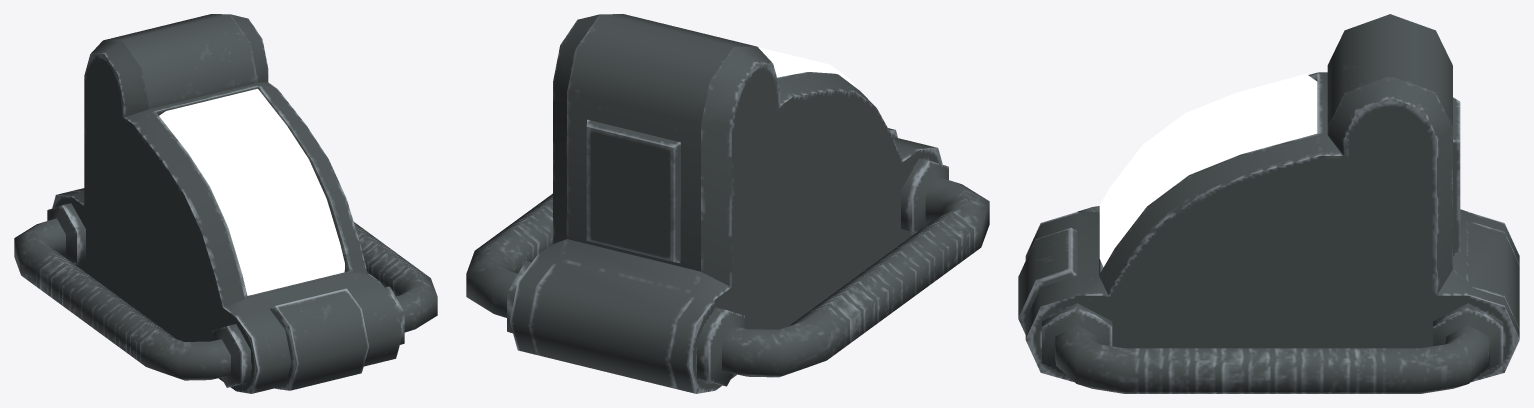
The model's file is scifi_light_15.glb.
3 views of the same model, side by side, from view 1: azimuth 30°, elevation 25°; view 2: azimuth 150°, elevation 25°; view 3: azimuth 270°, elevation 25° (orthographic). The views are drawn at different scales.
Parts seen in each view (by area): view 1: Light_15_Material #39_0, Light_15_Material #38_0; view 2: Light_15_Material #39_0, Light_15_Material #38_0; view 3: Light_15_Material #39_0, Light_15_Material #38_0.
Boxes of the visible parts, left/top/right/bottom form: Light_15_Material #39_0: left=14, top=14, right=437, bottom=393; Light_15_Material #38_0: left=159, top=88, right=344, bottom=295; Light_15_Material #39_0: left=466, top=14, right=989, bottom=393; Light_15_Material #38_0: left=758, top=47, right=855, bottom=87; Light_15_Material #39_0: left=1018, top=14, right=1519, bottom=393; Light_15_Material #38_0: left=1099, top=74, right=1317, bottom=266.
Bounding box in the file's own units: 31.56 × 26.9 × 40.58.
Materials: 2 (1 with a texture image).
